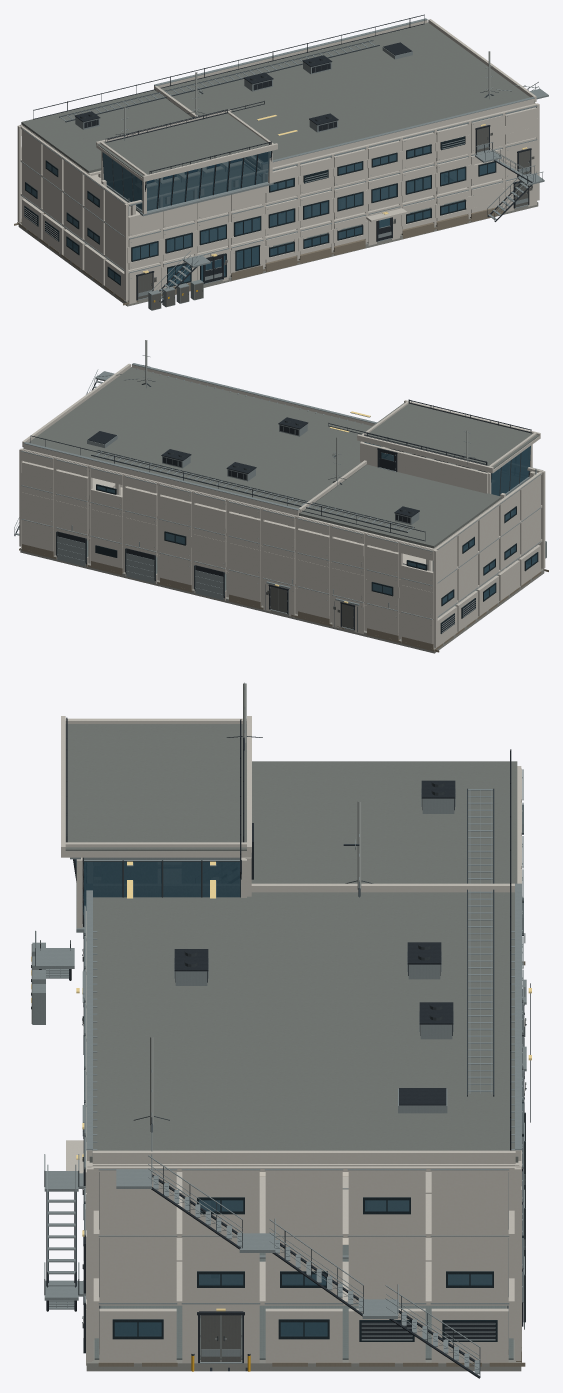
The model's file is RAIL04_lod2.glb.
3 renders of one model, top to bottom at view 1: azimuth 30°, elevation 25°; view 2: azimuth 150°, elevation 25°; view 3: azimuth 270°, elevation 25°, orthographic. The views are drawn at different scales.
Parts seen in each view (by area): view 1: Facade__concrete, Roof__roof, Facade__glass, Roof__concrete, Facade__window_dark, Roof__galv, Facade__galv, Facade__stone, Details__galv, Details__dark_steel, Roof__dark_steel, Structure__interior_floor (+6 smaller); view 2: Facade__concrete, Roof__roof, Roof__concrete, Roof__galv, Facade__galv, Doors_Moving__galv, Facade__stone, Roof__dark_steel, Facade__glass, Structure__concrete, Structure__concrete_dark, Details__dark_steel (+5 smaller); view 3: Roof__roof, Facade__concrete, Roof__concrete, Details__galv, Roof__galv, Facade__glass, Structure__concrete, Facade__galv, Roof__dark_steel, Facade__window_dark, Details__dark_steel, Structure__concrete_dark (+10 smaller).
Part boxes in pixels (x1=…): Facade__concrete: x1=17, y1=102, x2=539, y2=304; Roof__roof: x1=21, y1=22, x2=534, y2=177; Facade__glass: x1=26, y1=146, x2=495, y2=285; Roof__concrete: x1=96, y1=19, x2=536, y2=181; Facade__window_dark: x1=24, y1=136, x2=496, y2=286; Roof__galv: x1=60, y1=18, x2=534, y2=164; Facade__galv: x1=21, y1=105, x2=537, y2=273; Facade__stone: x1=14, y1=206, x2=514, y2=305; Details__galv: x1=128, y1=82, x2=548, y2=310; Details__dark_steel: x1=33, y1=14, x2=532, y2=302; Roof__dark_steel: x1=74, y1=42, x2=412, y2=173; Structure__interior_floor: x1=50, y1=164, x2=463, y2=270; Facade__concrete: x1=19, y1=441, x2=545, y2=647; Roof__roof: x1=23, y1=367, x2=538, y2=548; Roof__concrete: x1=22, y1=363, x2=540, y2=515; Roof__galv: x1=24, y1=355, x2=470, y2=531; Facade__galv: x1=21, y1=451, x2=542, y2=632; Doors_Moving__galv: x1=57, y1=467, x2=396, y2=630; Facade__stone: x1=19, y1=544, x2=548, y2=652; Roof__dark_steel: x1=88, y1=399, x2=531, y2=523; Facade__glass: x1=97, y1=442, x2=537, y2=603; Structure__concrete: x1=23, y1=448, x2=535, y2=599; Structure__concrete_dark: x1=20, y1=547, x2=544, y2=653; Details__dark_steel: x1=14, y1=379, x2=530, y2=564; Roof__roof: x1=65, y1=724, x2=518, y2=1162; Facade__concrete: x1=76, y1=766, x2=521, y2=1365; Roof__concrete: x1=61, y1=716, x2=521, y2=1163; Details__galv: x1=32, y1=777, x2=526, y2=1374; Roof__galv: x1=86, y1=682, x2=521, y2=1150; Facade__glass: x1=75, y1=859, x2=492, y2=1336; Structure__concrete: x1=92, y1=767, x2=519, y2=1339; Facade__galv: x1=70, y1=769, x2=523, y2=1340; Roof__dark_steel: x1=66, y1=717, x2=455, y2=1105; Facade__window_dark: x1=84, y1=805, x2=523, y2=1341; Details__dark_steel: x1=31, y1=719, x2=511, y2=1378; Structure__concrete_dark: x1=86, y1=1340, x2=521, y2=1371.
Bounding box in the file's own units: 50.66 × 18.05 × 25.35.
Materials: 17 (17 with a texture image).
